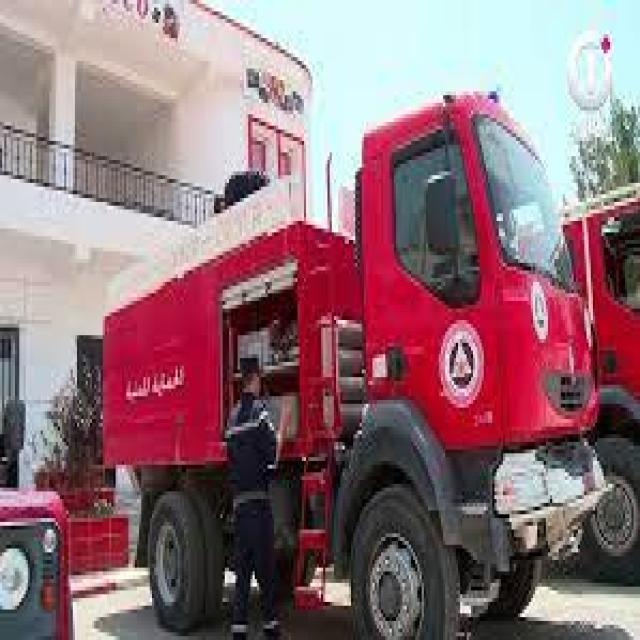pompier: (99, 93, 596, 640)
